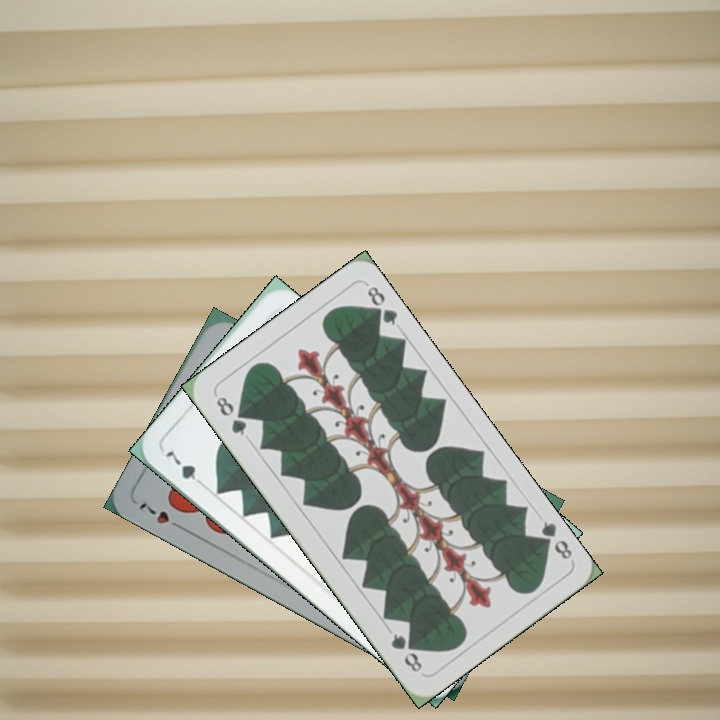G7: (159, 446, 209, 490)
G8: (532, 516, 575, 563), (211, 390, 250, 439)
H7: (135, 498, 188, 533)
